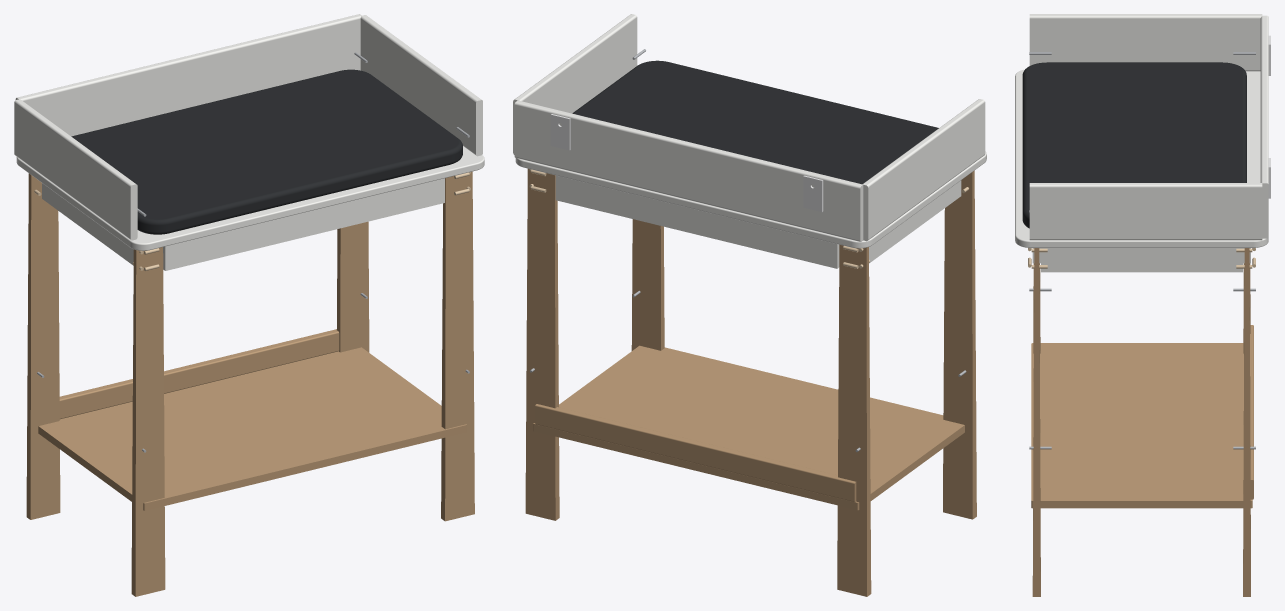
The model's file is anatomy_v1.glb.
3 renders of one model, left to right at view 1: azimuth 30°, elevation 25°; view 2: azimuth 150°, elevation 25°; view 3: azimuth 270°, elevation 25°, orthographic.
Visible parts, largest first — view 1: coat.1, wood.5, body.6, wood.4, wood.3, wood.2, body.8, body.3, body.7, wood.6, body.1, wood.1 (+1 smaller); view 2: wood.5, coat.1, body.6, wood.2, wood.1, wood.4, wood.6, body.8, body.2, body.7, wood.3, body.1 (+3 smaller); view 3: wood.5, coat.1, body.7, body.8, body.1, body.4, wood.3, wood.1, body.6, wood.6.
Boxes of the visible parts, x1=… form: coat.1: x1=71, y1=69, x2=462, y2=234; wood.5: x1=38, y1=347, x2=466, y2=510; body.6: x1=15, y1=14, x2=361, y2=136; wood.4: x1=131, y1=247, x2=165, y2=596; wood.3: x1=441, y1=171, x2=474, y2=521; wood.2: x1=26, y1=173, x2=60, y2=519; body.8: x1=14, y1=99, x2=137, y2=240; body.3: x1=163, y1=178, x2=444, y2=270; body.7: x1=360, y1=15, x2=482, y2=156; wood.6: x1=59, y1=329, x2=339, y2=419; body.1: x1=16, y1=146, x2=484, y2=250; wood.1: x1=336, y1=221, x2=369, y2=352; wood.5: x1=533, y1=345, x2=964, y2=510; coat.1: x1=572, y1=60, x2=938, y2=184; body.6: x1=514, y1=100, x2=863, y2=241; wood.2: x1=837, y1=244, x2=871, y2=596; wood.1: x1=525, y1=168, x2=559, y2=520; wood.4: x1=943, y1=170, x2=976, y2=519; wood.6: x1=535, y1=404, x2=856, y2=502; body.8: x1=862, y1=99, x2=985, y2=241; body.2: x1=555, y1=175, x2=839, y2=268; body.7: x1=513, y1=14, x2=637, y2=154; wood.3: x1=631, y1=219, x2=664, y2=350; body.1: x1=515, y1=151, x2=986, y2=248; wood.5: x1=1031, y1=343, x2=1252, y2=508; coat.1: x1=1022, y1=62, x2=1246, y2=228; body.7: x1=1029, y1=183, x2=1262, y2=240; body.8: x1=1029, y1=14, x2=1262, y2=71; body.1: x1=1015, y1=69, x2=1268, y2=247; body.4: x1=1041, y1=248, x2=1242, y2=272; wood.3: x1=1032, y1=248, x2=1040, y2=596; wood.1: x1=1243, y1=248, x2=1250, y2=596; body.6: x1=1260, y1=15, x2=1268, y2=238; wood.6: x1=1250, y1=325, x2=1253, y2=499.
Bounding box in the file's own units: 0.9 × 1.01 × 0.5645.
